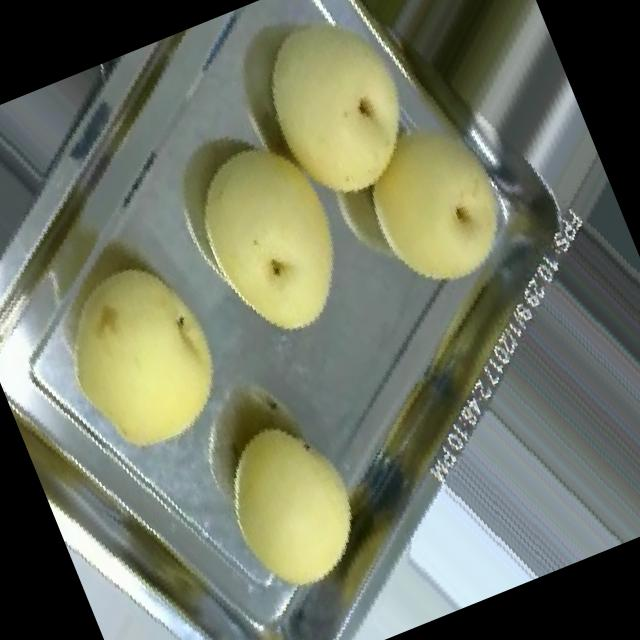Fruit: (312, 65, 560, 332), (17, 225, 262, 492), (205, 0, 474, 243), (152, 102, 392, 371), (188, 394, 392, 620)
